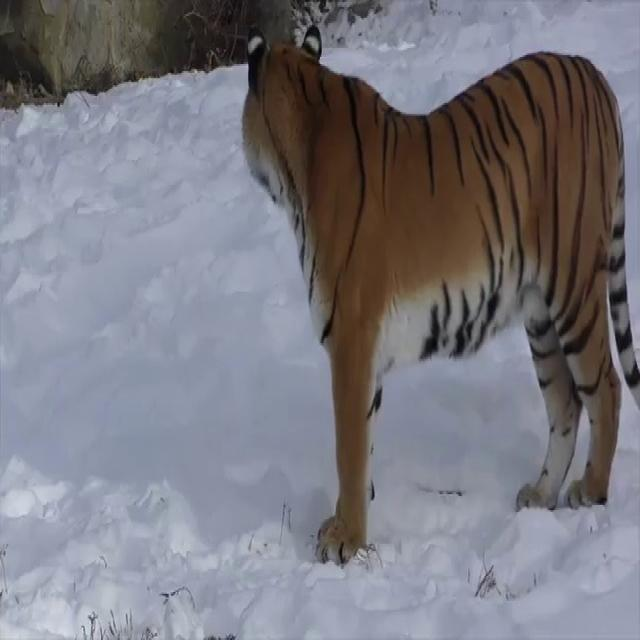tiger: (242, 22, 640, 567)
